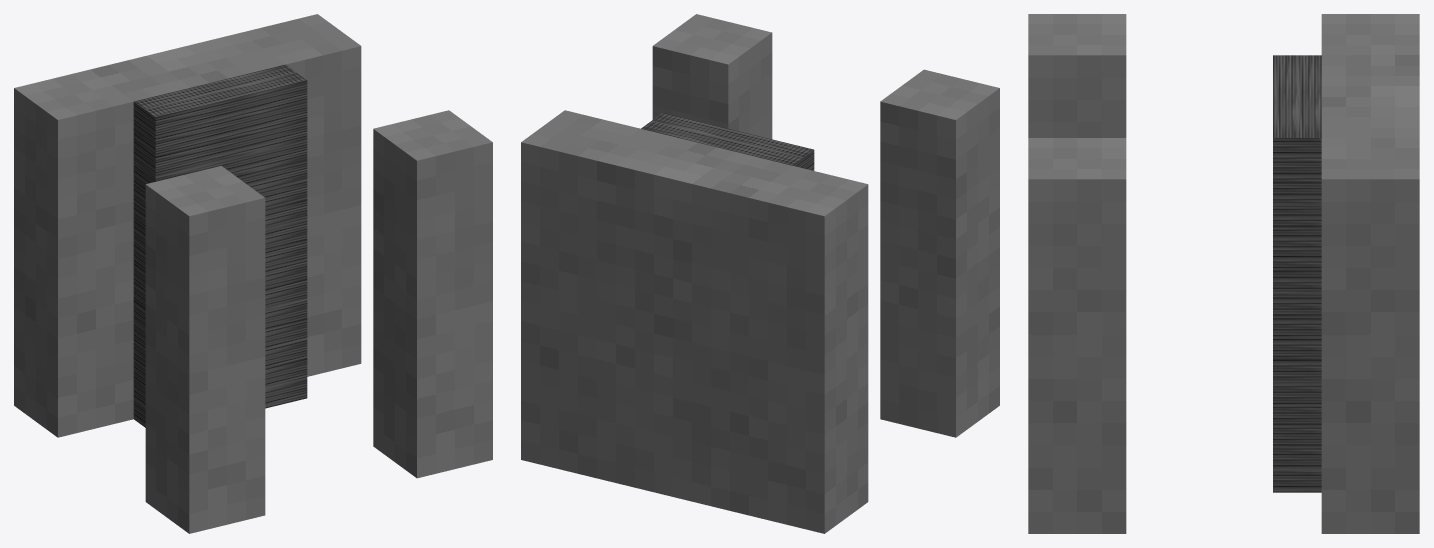
Rendered from conveyor_lift_1.obj.
The picture shows the model from 3 angles, left to right: view 1: azimuth 30°, elevation 25°; view 2: azimuth 150°, elevation 25°; view 3: azimuth 270°, elevation 25°; orthographic projection. The views are drawn at different scales.
Parts seen in each view (by area): view 1: o1, o3, o2, cvr4; view 2: o1, o3, o2, cvr4; view 3: o1, o2, cvr4, o3.
Part boxes in pixels (<box>): o1: <box>14,14,361,437</box>; o3: <box>145,165,265,533</box>; o2: <box>373,110,492,478</box>; cvr4: <box>133,64,307,427</box>; o1: <box>521,110,868,533</box>; o3: <box>880,69,999,437</box>; o2: <box>652,14,772,139</box>; cvr4: <box>641,113,814,170</box>; o1: <box>1321,14,1419,533</box>; o2: <box>1028,138,1126,533</box>; cvr4: <box>1273,55,1321,492</box>; o3: <box>1028,14,1126,137</box>.
Size of the model in its own units: 1 by 1 by 1.
